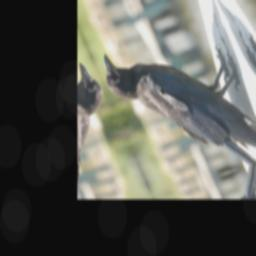Crow: (95, 12, 256, 197)
